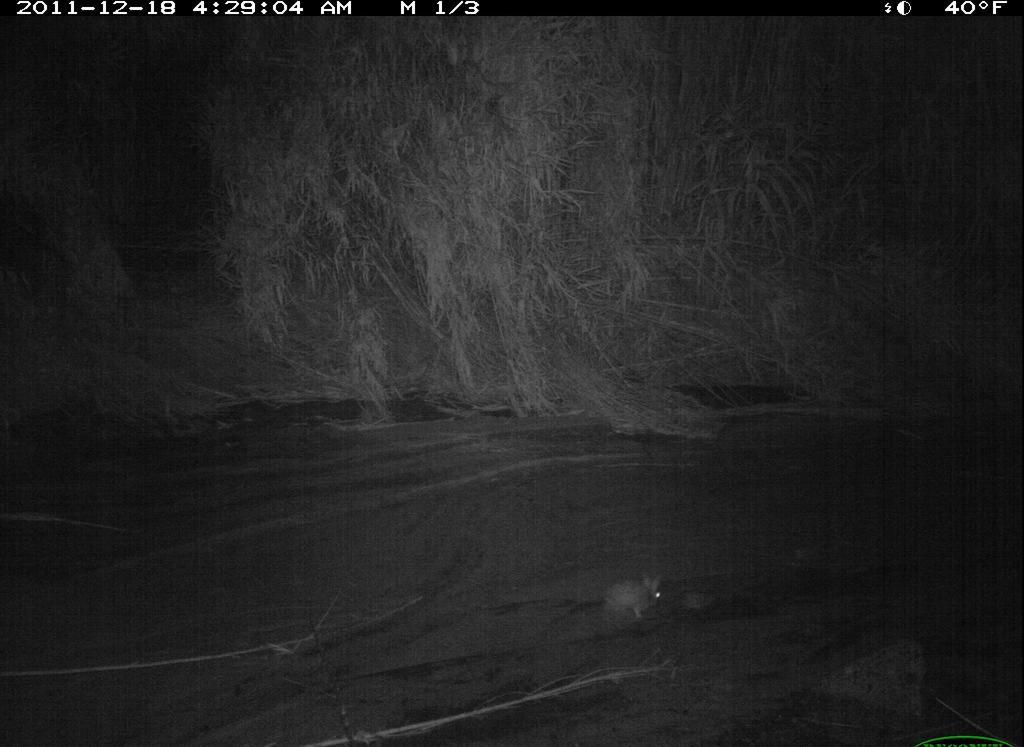rabbit: (597, 555, 673, 626)
